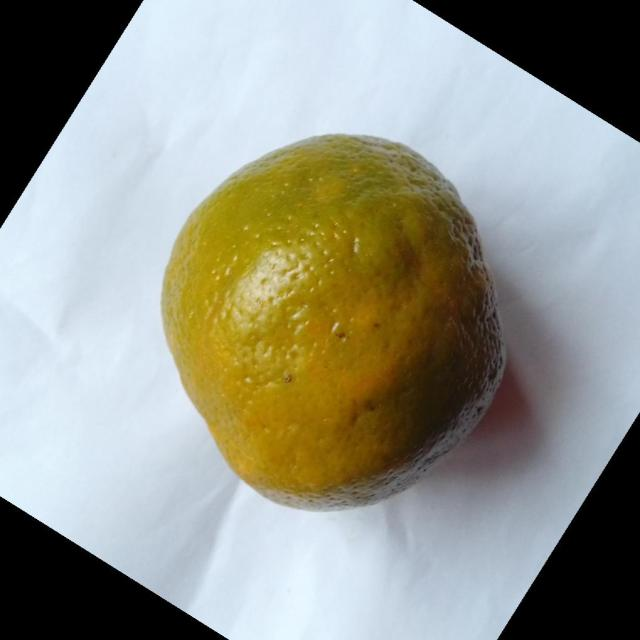fresh orange: (159, 131, 507, 512)
